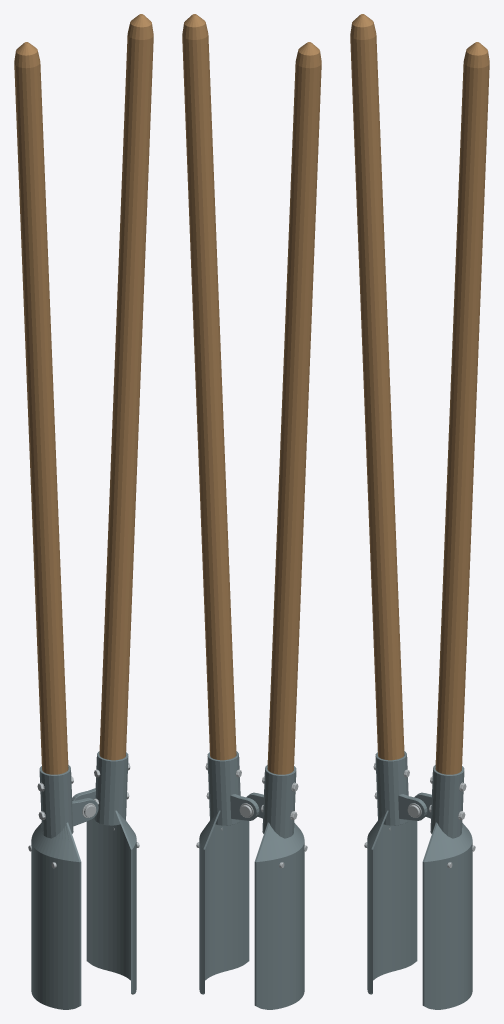
3 views of the same model, side by side, from view 1: azimuth 30°, elevation 25°; view 2: azimuth 150°, elevation 25°; view 3: azimuth 330°, elevation 25° (orthographic).
Visible parts, largest first — view 1: Right_round_wooden_handle, Left_round_wooden_handle, Left_concave_scoop_and_shoulder, Right_concave_scoop_and_shoulder, Right_hollow_steel_socket, Left_hollow_steel_socket, Left_seated_hinge_cheek; view 2: Right_round_wooden_handle, Left_round_wooden_handle, Left_concave_scoop_and_shoulder, Right_concave_scoop_and_shoulder, Left_hollow_steel_socket, Right_hollow_steel_socket, Right_seated_hinge_cheek; view 3: Left_round_wooden_handle, Right_round_wooden_handle, Right_concave_scoop_and_shoulder, Left_concave_scoop_and_shoulder, Right_hollow_steel_socket, Left_hollow_steel_socket, Left_seated_hinge_cheek.
Part boxes in pixels (x1,y1,x2,y2): Right_round_wooden_handle: (99,14,153,760); Left_round_wooden_handle: (14,42,68,774); Left_concave_scoop_and_shoulder: (31,822,81,1009); Right_concave_scoop_and_shoulder: (86,810,136,994); Right_hollow_steel_socket: (94,751,128,825); Left_hollow_steel_socket: (39,765,73,838); Left_seated_hinge_cheek: (72,798,98,826); Right_round_wooden_handle: (182,14,236,760); Left_round_wooden_handle: (267,42,321,774); Left_concave_scoop_and_shoulder: (254,822,304,1009); Right_concave_scoop_and_shoulder: (199,810,249,994); Left_hollow_steel_socket: (262,765,296,838); Right_hollow_steel_socket: (207,751,240,825); Right_seated_hinge_cheek: (230,794,259,820); Left_round_wooden_handle: (350,14,404,760); Right_round_wooden_handle: (435,42,489,774); Right_concave_scoop_and_shoulder: (422,822,472,1009); Left_concave_scoop_and_shoulder: (367,810,417,994); Right_hollow_steel_socket: (430,765,464,838); Left_hollow_steel_socket: (375,751,408,825); Left_seated_hinge_cheek: (398,794,427,820).
Size of the model in its own units: 0.218 by 1.47 by 0.123.
